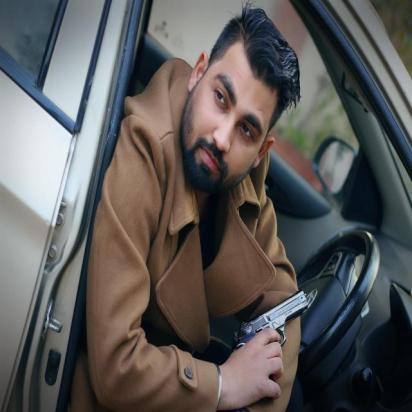Gun: (233, 286, 311, 399)
